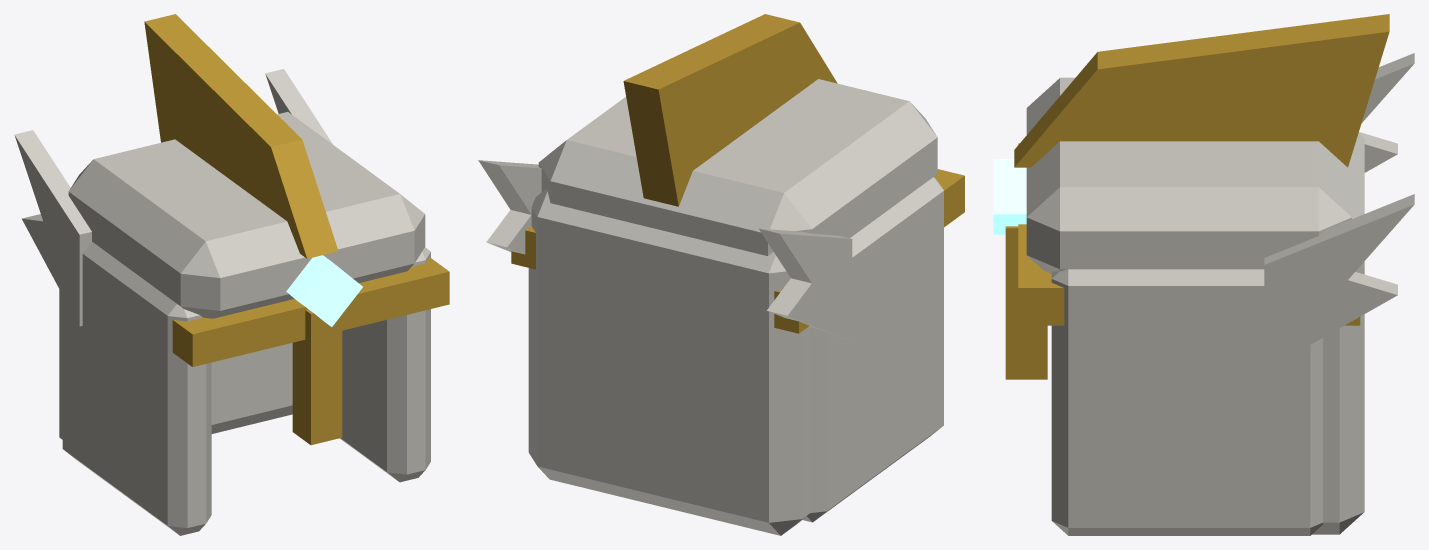
Rendered from starforged_helm.glb.
3 renders of one model, left to right at view 1: azimuth 30°, elevation 25°; view 2: azimuth 150°, elevation 25°; view 3: azimuth 270°, elevation 25°, orthographic. The views are drawn at different scales.
Parts seen in each view (by area): view 1: starforged_helm; view 2: starforged_helm; view 3: starforged_helm.
Boxes of the visible parts, bbox=[...] form: starforged_helm: bbox=[14, 14, 449, 535]; starforged_helm: bbox=[478, 14, 964, 535]; starforged_helm: bbox=[993, 14, 1414, 535].
Bounding box in the file's own units: 0.43 × 0.6 × 0.505.
